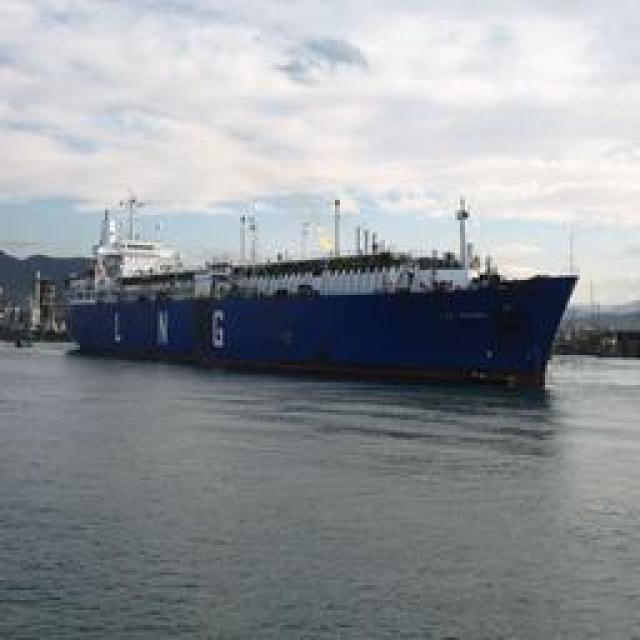CIV_Ship: (56, 188, 582, 388)
